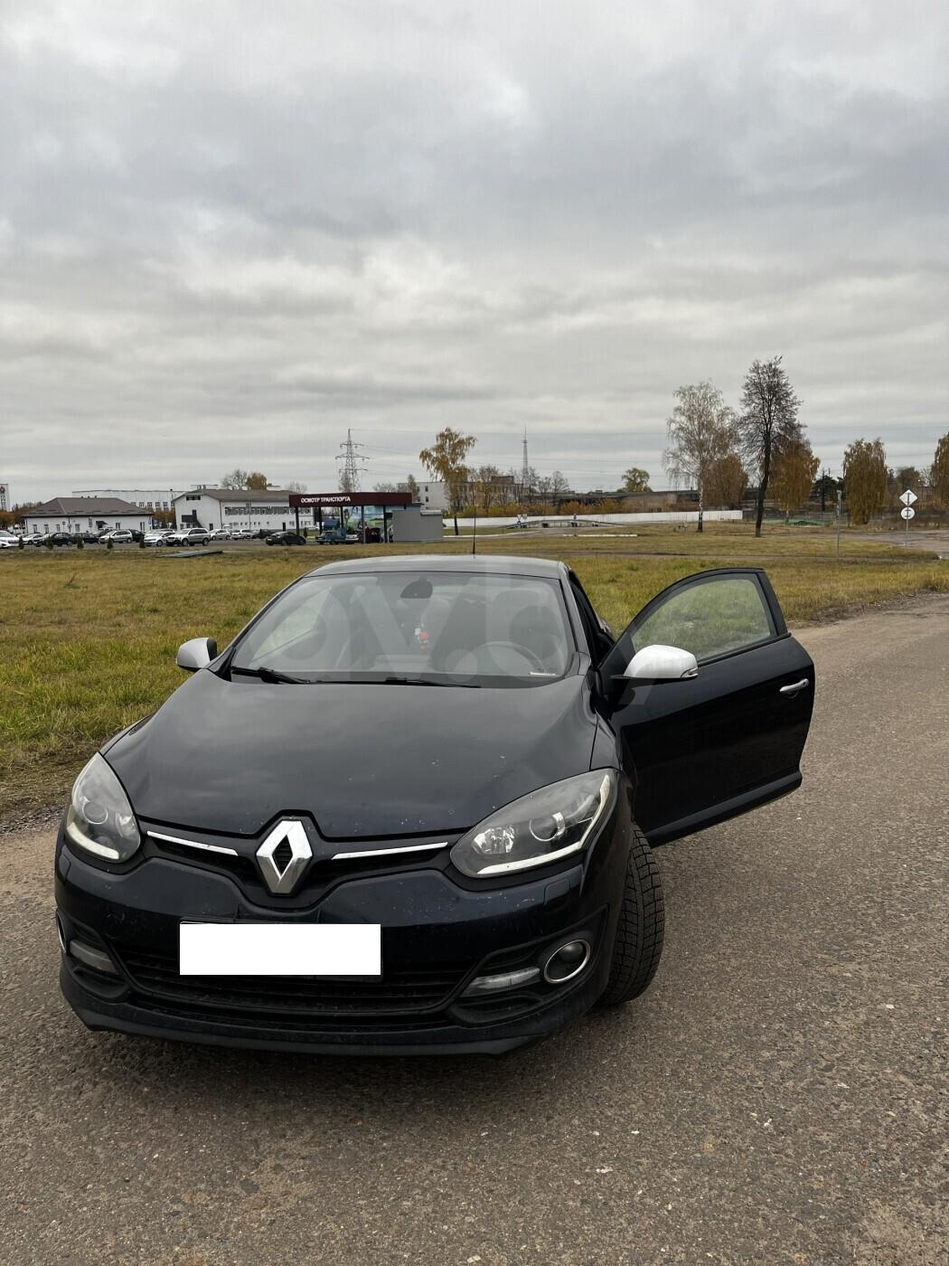Megane_2008-2014: (43, 546, 795, 1069)
